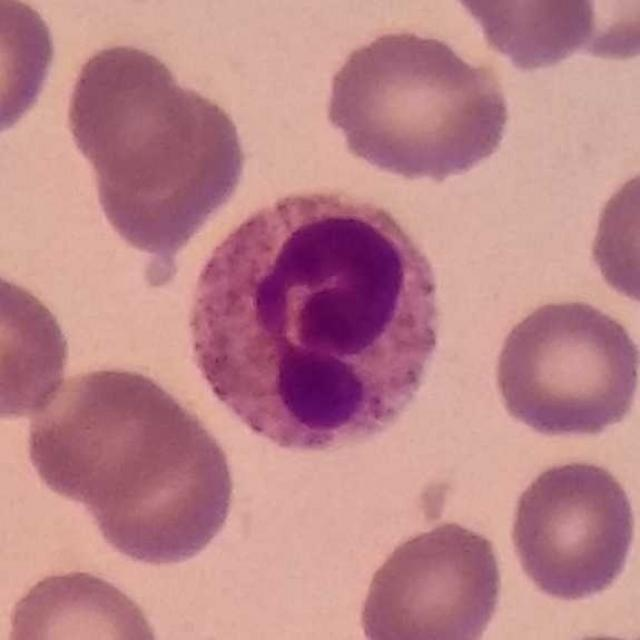Neutrophil: (174, 183, 448, 463)
RBC: (318, 24, 516, 182), (76, 384, 242, 571), (85, 78, 252, 254), (21, 359, 199, 508), (487, 292, 640, 443), (60, 37, 203, 188), (503, 453, 639, 604), (352, 516, 508, 640), (0, 563, 168, 640), (0, 261, 77, 425), (445, 0, 601, 72), (582, 158, 640, 313), (0, 0, 61, 146), (537, 0, 640, 65)
